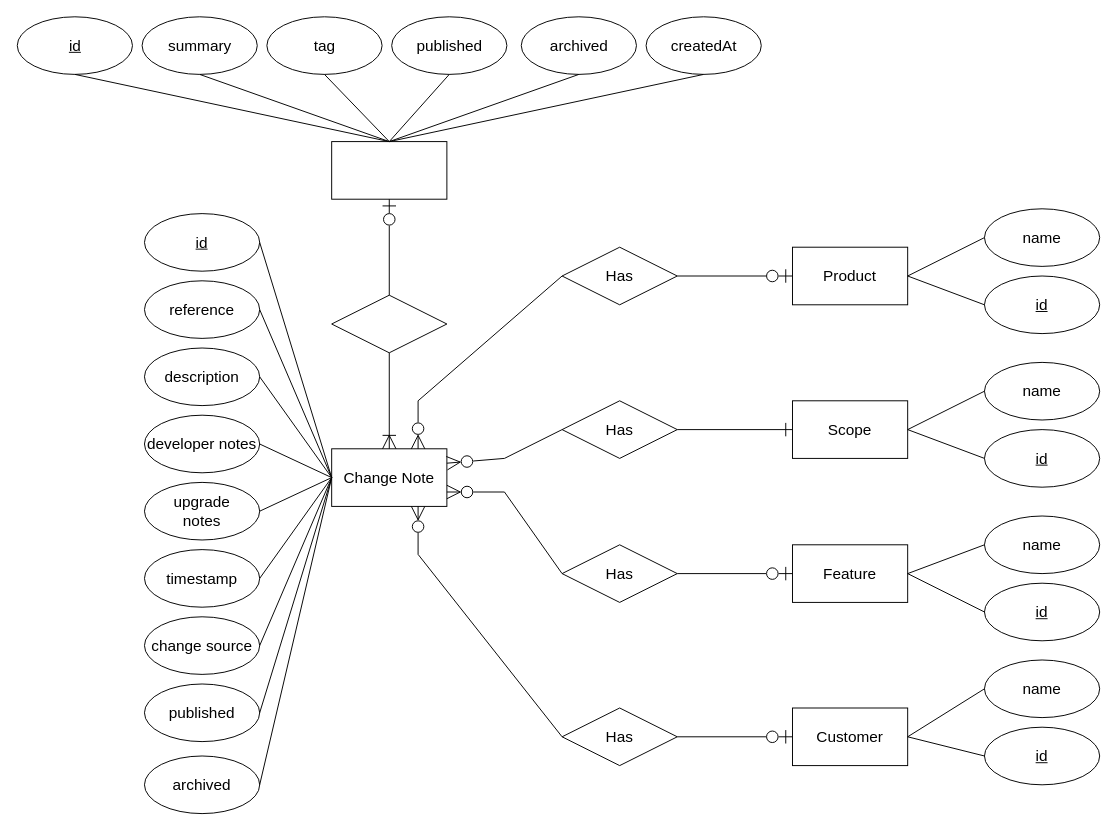
This 1116x830 diagram has some shape labels left out. Each missing label, with the centre of its shape:
Contains: (389,323)
Release Note: (389,170)
